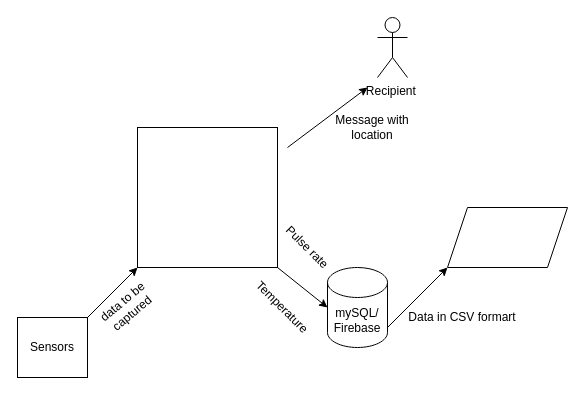
Some shapes in this 585 by 395 pixel diagram are drawn without their labels. The shapes that lost their labels are listed below. From the top down, each one's box as (x1, y1, x2, y2) in pixels, then its label:
(136, 126, 278, 268): Microcontroller
(446, 206, 568, 268): Python notebook
